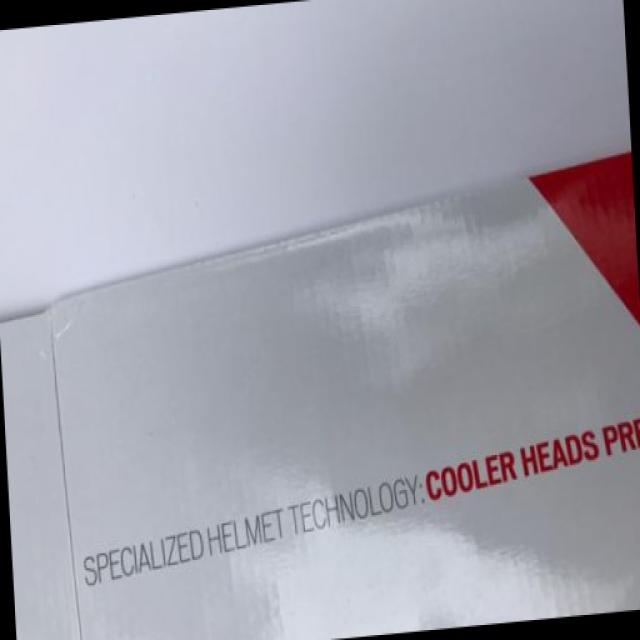carton: (11, 5, 639, 640)
